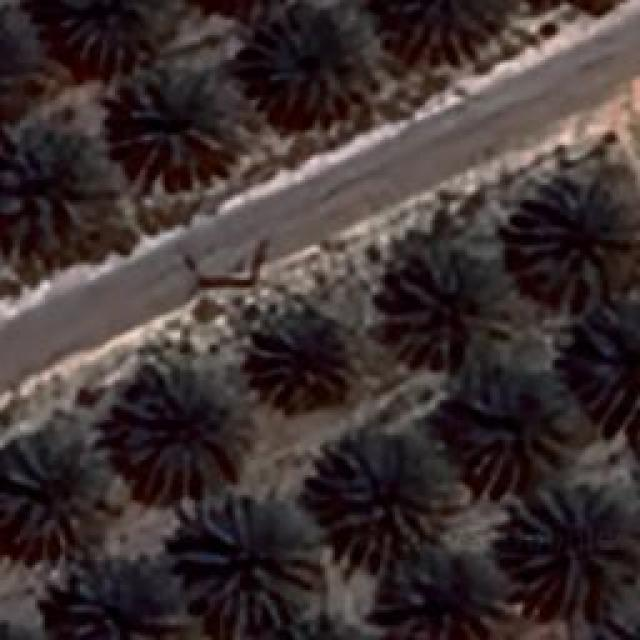PalmTree: (502, 156, 640, 306), (112, 30, 148, 596), (177, 495, 325, 630), (310, 438, 455, 568), (0, 118, 122, 256), (387, 250, 515, 372), (504, 485, 628, 610), (115, 364, 227, 498), (252, 9, 378, 122), (460, 380, 578, 490), (0, 442, 118, 540), (370, 0, 512, 75), (391, 550, 509, 640), (128, 70, 222, 170), (250, 320, 350, 405), (54, 0, 164, 72), (578, 300, 638, 425), (0, 5, 35, 124), (586, 599, 640, 640)
